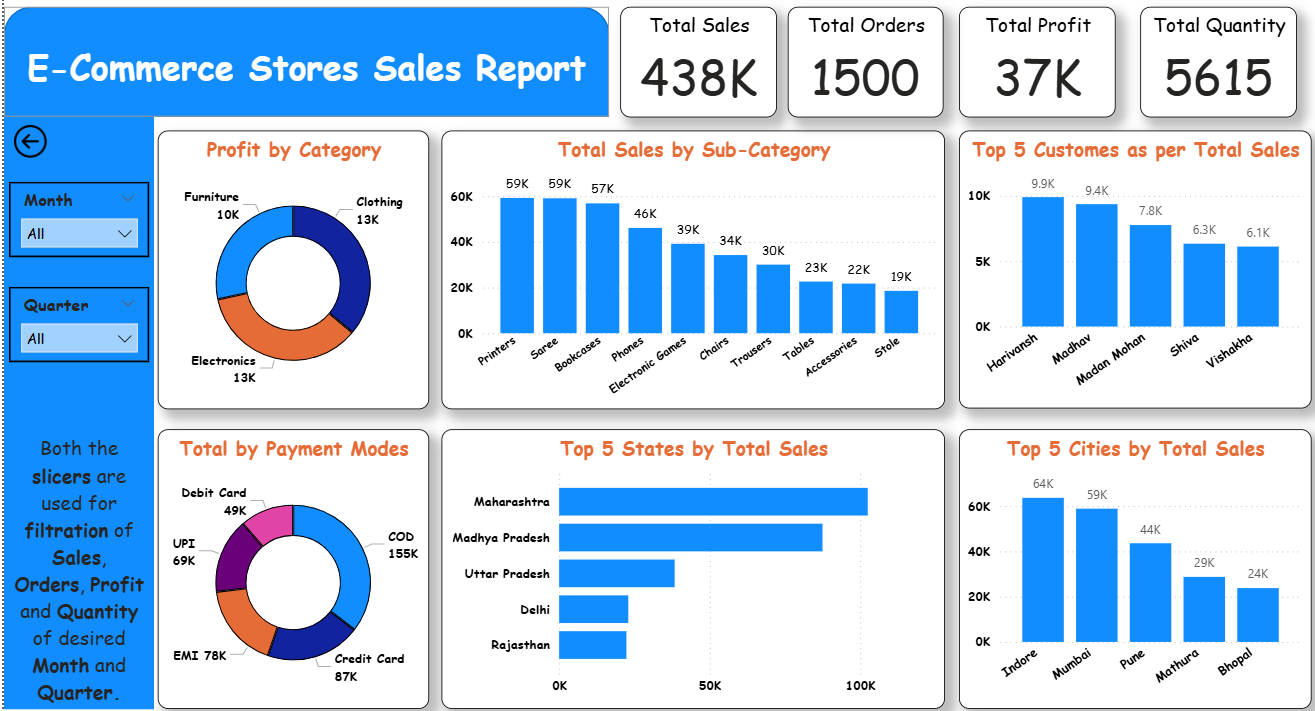

The dashboard page shown, as its layout file describes it:
{"tool":"powerbi","page":{"name":"Home","canvas":[1280,720],"ordinal":0},"visuals":[{"type":"shape","box":[0,120.7,146.3,578],"z":0},{"type":"shape","box":[0,13.5,590.6,107.6],"z":1000},{"type":"card","title":"Total Profit","fields":{"Values":["Details.Profit"]},"box":[931.8,13.5,152.9,107.6],"z":2000},{"type":"card","title":"Total Quantity","fields":{"Values":["Details.Quantity"]},"box":[1109.1,13.5,152.9,107.6],"z":3000},{"type":"card","title":"Total Sales","fields":{"Values":["Details.Amount"]},"box":[601.6,13.5,152.9,107.6],"z":4000},{"type":"donutChart","title":"Profit by Category","fields":{"Category":["Details.Category"],"Y":["Details.Profit"]},"box":[150,134.1,264.6,272],"z":5000},{"type":"donutChart","title":"Total by Payment Modes","fields":{"Y":["Details.Amount"],"Category":["Details.PaymentMode"]},"box":[150,425.6,264.6,273.2],"z":6000},{"type":"clusteredColumnChart","title":"Total Sales by Sub-Category","fields":{"Y":["Details.Amount"],"Category":["Details.Sub-Category"]},"box":[426.8,134.1,491.5,272],"z":7000},{"type":"barChart","title":"Top 5 States by Total Sales","fields":{"Category":["Orders.State"],"Y":["Details.Amount"]},"box":[426.8,425.6,491.5,273.2],"z":8000},{"type":"columnChart","title":"Top 5 Customes as per Total Sales","fields":{"Category":["Orders.CustomerName"],"Y":["Details.Amount"]},"box":[931.8,134.5,343.6,271.5],"z":9000},{"type":"columnChart","title":"Top 5 Cities by Total Sales","fields":{"Category":["Orders.City"],"Y":["Details.Amount"]},"box":[931.8,425.5,343.6,272.7],"z":10000},{"type":"slicer","fields":{"Values":["Orders.Order Date.Variation.Date Hierarchy.Month"]},"box":[4.9,184.6,137,73.4],"z":11000},{"type":"slicer","fields":{"Values":["Orders.Order Date.Variation.Date Hierarchy.Quarter"]},"box":[4.9,286.1,137,73.4],"z":12000},{"type":"card","title":"Total Orders","fields":{"Values":["Details.Order ID"]},"box":[764.3,13.5,151.6,107.6],"z":13000},{"type":"image","box":[4.9,121.1,41.6,47.7],"z":14000},{"type":"textbox","box":[4.9,425.5,137,277.6],"z":15000}]}

Visuals, with their boxes in screenshot pixels (x1, y1, x2, y2):
shape: 0 115 148 700
shape: 0 7 597 116
"Total Profit" card: 942 7 1097 116
"Total Quantity" card: 1122 7 1276 116
"Total Sales" card: 609 7 763 116
"Profit by Category" donutChart: 152 129 419 404
"Total by Payment Modes" donutChart: 152 424 419 700
"Total Sales by Sub-Category" clusteredColumnChart: 432 129 929 404
"Top 5 States by Total Sales" barChart: 432 424 929 700
"Top 5 Customes as per Total Sales" columnChart: 942 129 1290 404
"Top 5 Cities by Total Sales" columnChart: 942 424 1290 699
slicer - Orders.Order Date.Variation.Date Hierarchy.Month: 5 180 144 254
slicer - Orders.Order Date.Variation.Date Hierarchy.Quarter: 5 283 144 357
"Total Orders" card: 773 7 926 116
image: 5 116 47 164
textbox: 5 424 144 704
